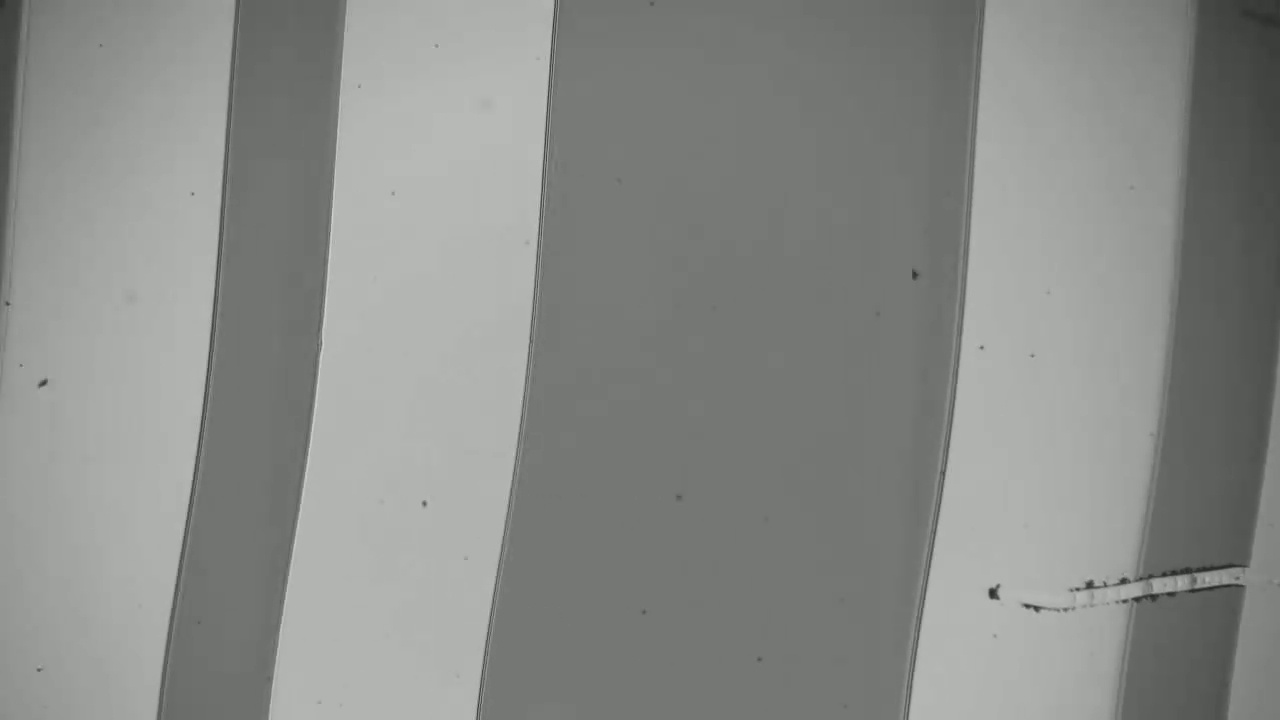Short_circuit: (1098, 541, 1267, 634)
